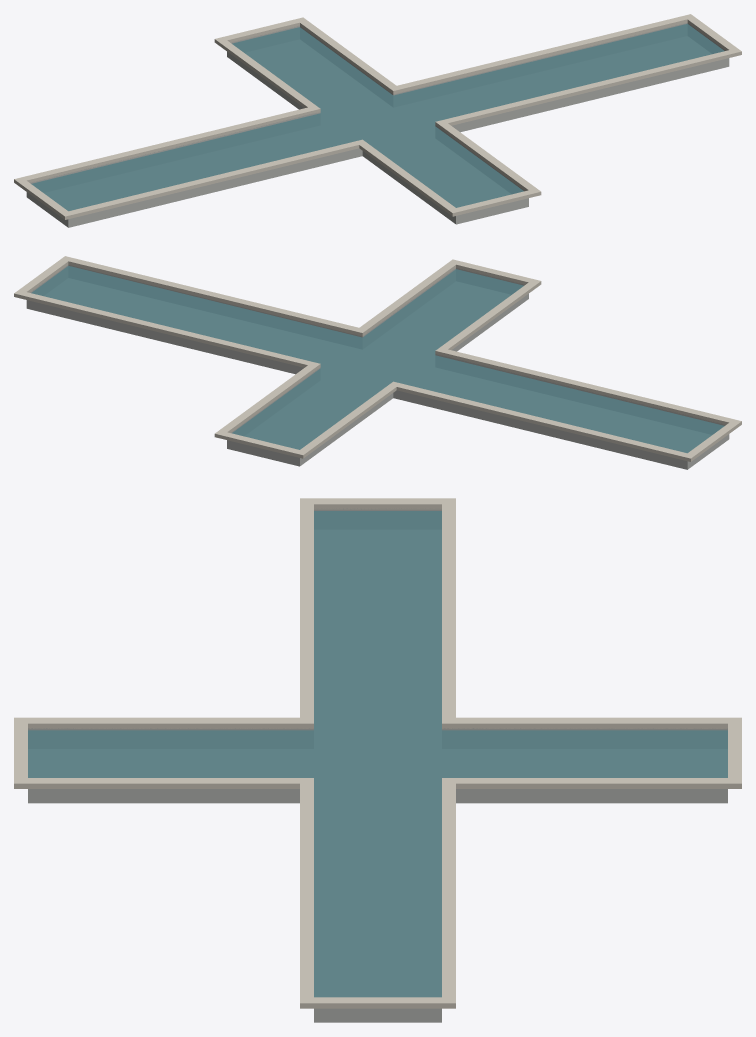
File: ercolano-palestra-vasca.glb
The picture shows the model from 3 angles, top to bottom: view 1: azimuth 30°, elevation 25°; view 2: azimuth 150°, elevation 25°; view 3: azimuth 270°, elevation 25°; orthographic projection. The views are drawn at different scales.
Visible parts, largest first — view 1: acqua, bordo, vasca; view 2: acqua, bordo, vasca; view 3: acqua, bordo, vasca.
Boxes of the visible parts, x1,y1,x2,y2 form: acqua: [31, 24, 724, 211]; bordo: [14, 14, 741, 219]; vasca: [26, 23, 729, 227]; acqua: [31, 266, 724, 453]; bordo: [14, 256, 741, 461]; vasca: [26, 264, 729, 469]; acqua: [28, 511, 727, 997]; bordo: [14, 498, 741, 1008]; vasca: [28, 508, 727, 1022].
Size of the model in its own units: 12.8 by 0.3 by 7.8.
